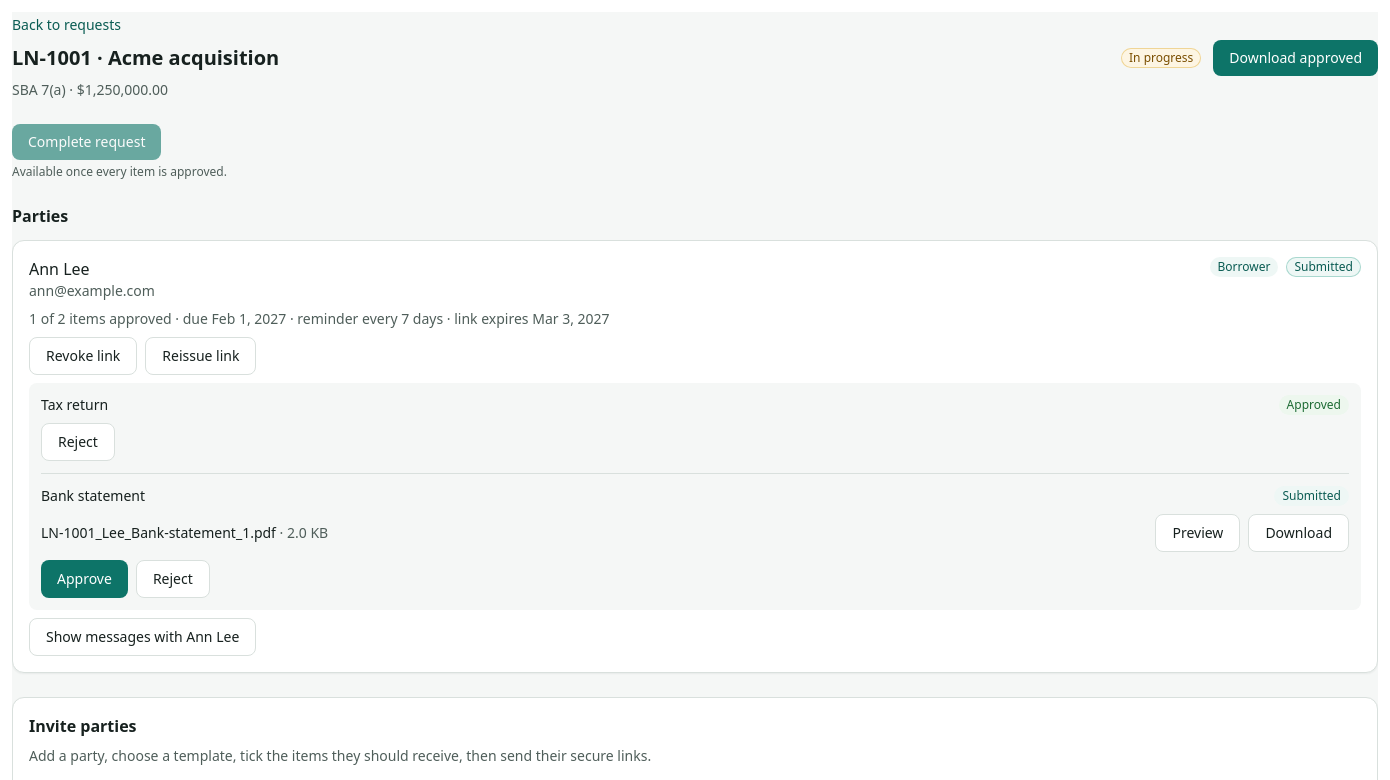
it: RequestDetailPage › revokes a link
Click the button with aria-label "Revoke link for Ann Lee".
click(83, 356)  # box [29,337,137,375]
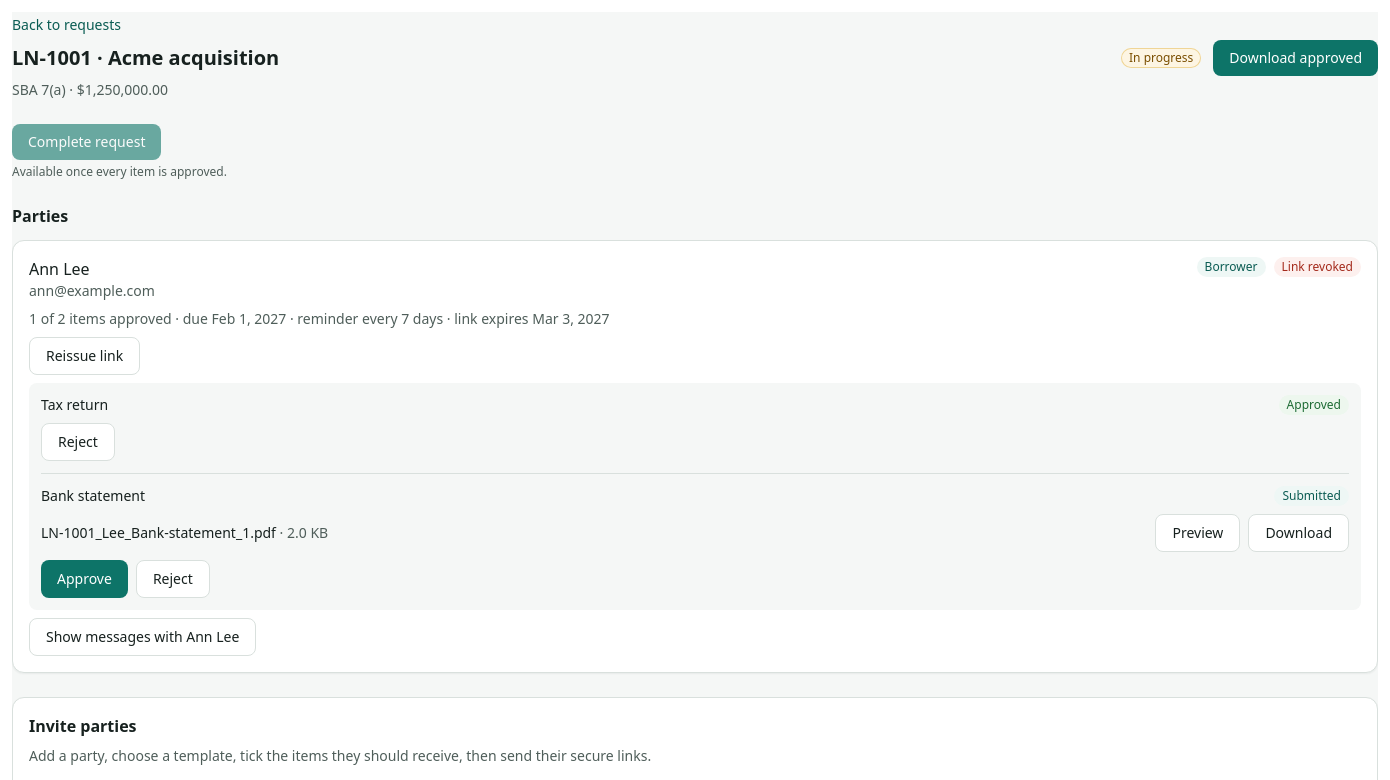
Check: the text "Link revoked" is shown, box [1274,257,1361,277]
